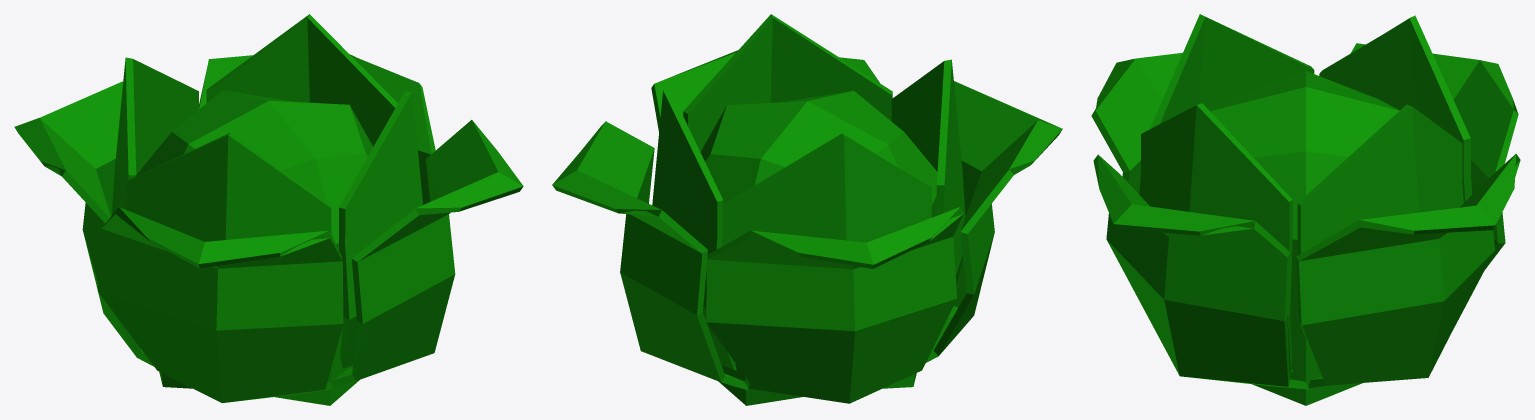
Rendered from Lettuce_Whole.fbx.
3 views of the same model, side by side, from view 1: azimuth 30°, elevation 25°; view 2: azimuth 150°, elevation 25°; view 3: azimuth 270°, elevation 25° (orthographic). The views are drawn at different scales.
Parts seen in each view (by area): view 1: Lettuce_Whole; view 2: Lettuce_Whole; view 3: Lettuce_Whole.
Boxes of the visible parts, x1,y1,x2,y2 form: Lettuce_Whole: (14,14,523,405); Lettuce_Whole: (552,14,1062,405); Lettuce_Whole: (1091,14,1520,405).
Bounding box in the file's own units: 166 × 137 × 166.
